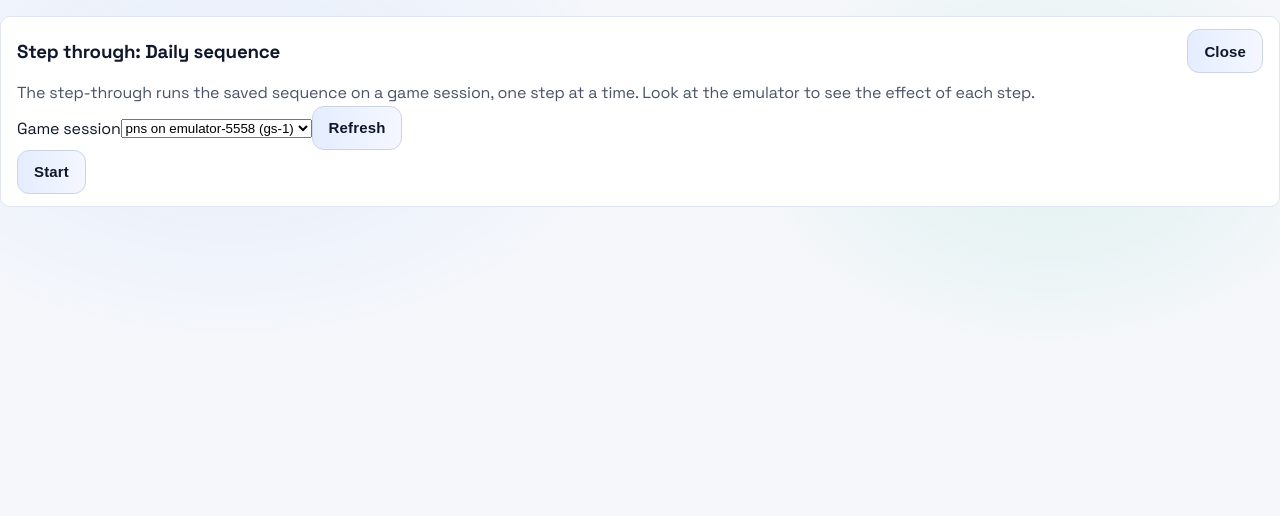
it: StepThroughPanel › shows the complete state and disables Run next step
The width and height of the screenshot is (1280, 516).
Click the button "Start": coordinates (51, 172) [17,150,86,194]
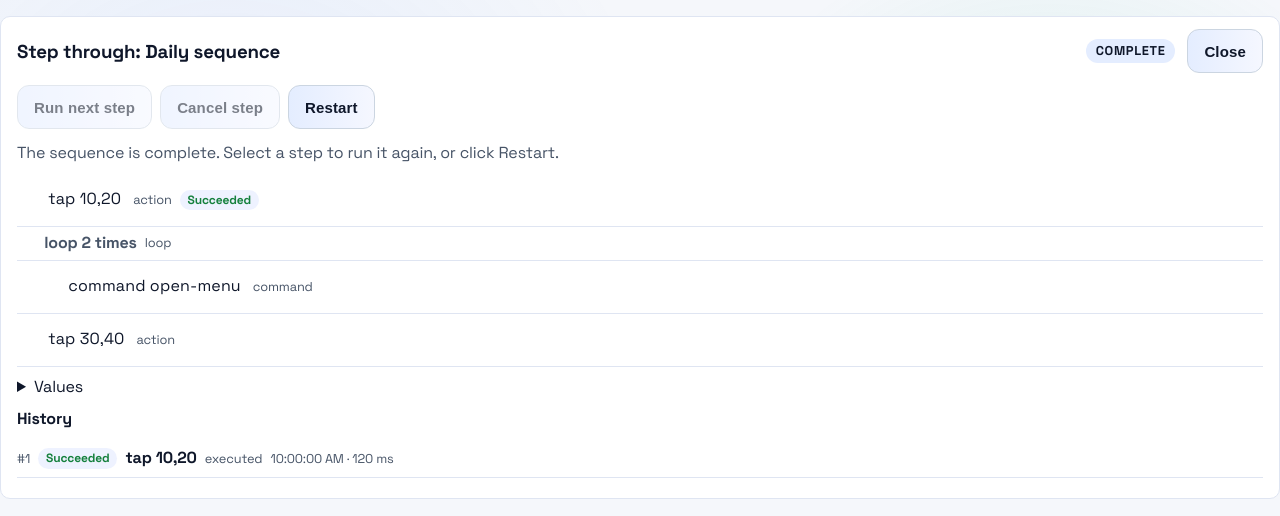
Check: the list named "Steps" is shown, box [17,174,1263,367]
Check: the text with test id "step-through-state" reads "complete", box [1096,42,1165,59]
Check: the button "Run next step" is disabled, box [17,85,152,129]
